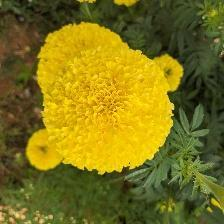marigold: (48, 48, 182, 182)
